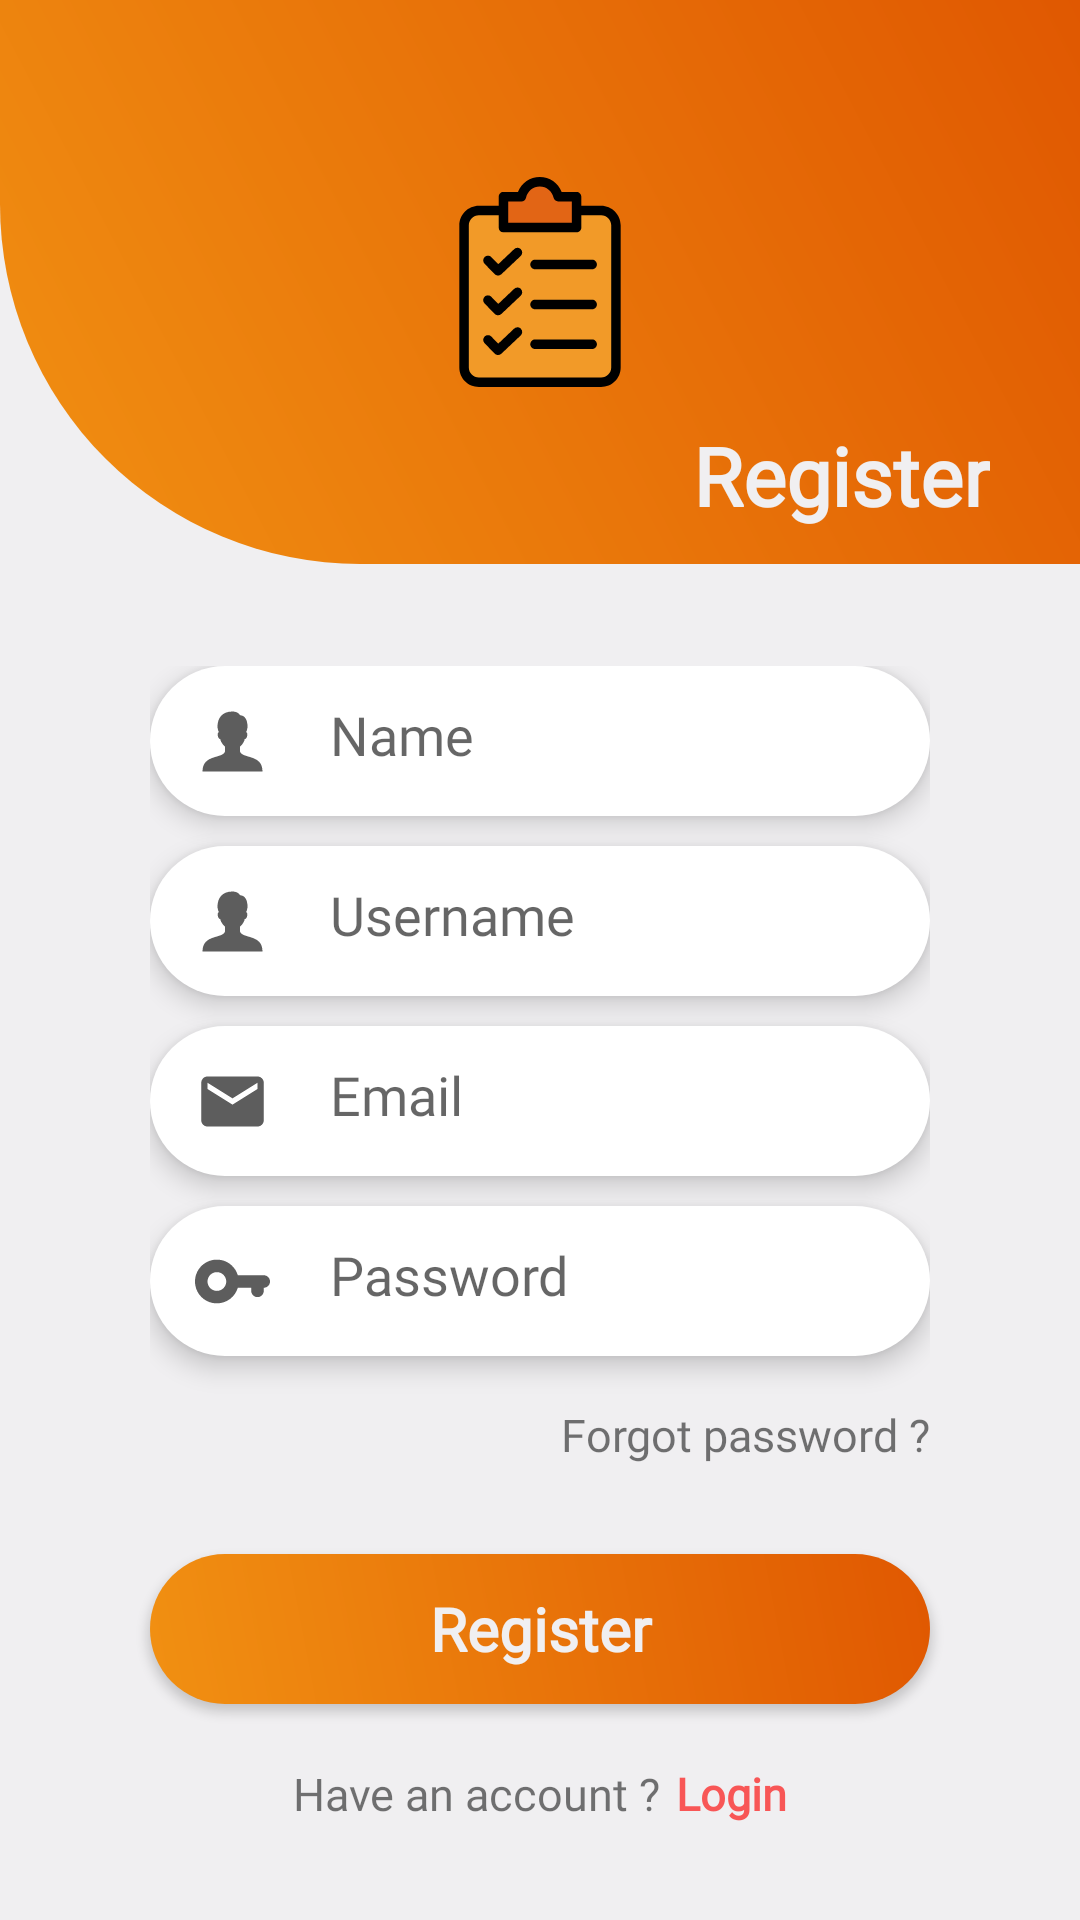

Point at icon controls on the screen. Image size 1080px x 1920px, points as point (x, y).
note: point (540, 282)
